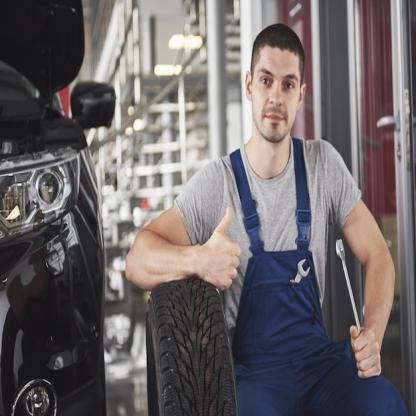thumb_up: (204, 201, 246, 296)
